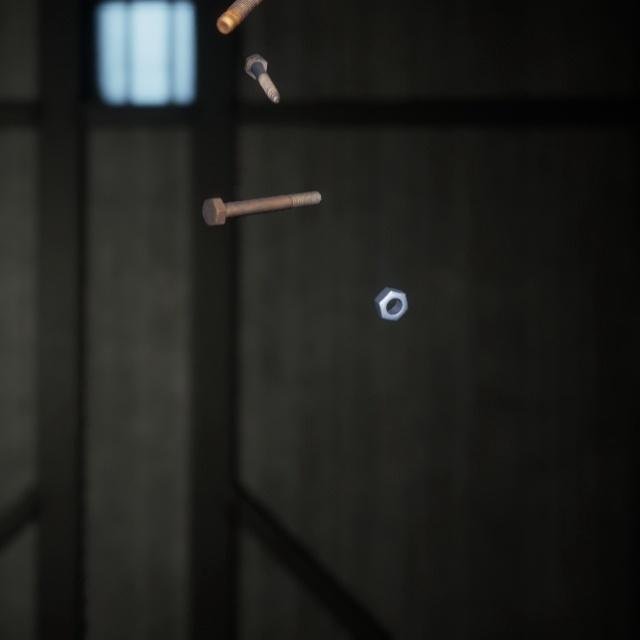bolt: (197, 171, 325, 215), (239, 38, 284, 95), (212, 0, 261, 31)
nut: (369, 266, 413, 309)
